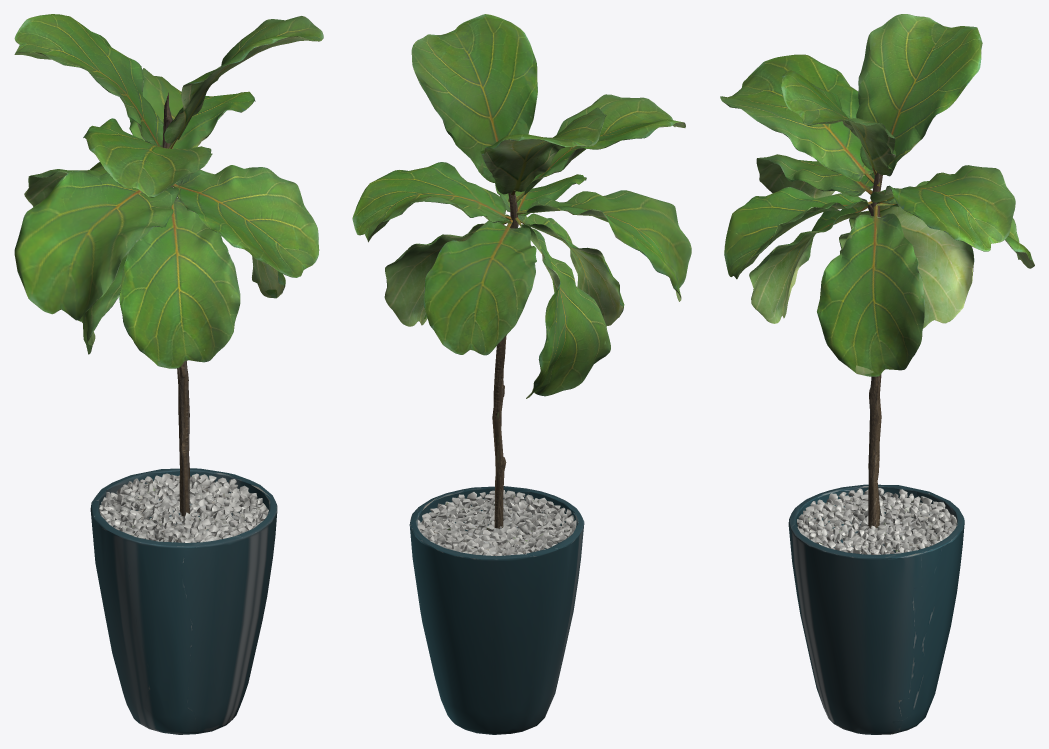
The model's file is raw_model.obj.
3 renders of one model, left to right at view 1: azimuth 30°, elevation 25°; view 2: azimuth 150°, elevation 25°; view 3: azimuth 270°, elevation 25°, orthographic. The views are drawn at different scales.
Visible parts, largest first — view 1: solid_005, solid_001, solid_002, solid_006, solid_004, solid_003; view 2: solid_005, solid_001, solid_006, solid_002, solid_004, solid_003; view 3: solid_005, solid_001, solid_006, solid_002, solid_004, solid_003.
Part boxes in pixels (x1,y1,x2,y2): solid_005: (14, 14, 323, 368); solid_001: (90, 468, 277, 734); solid_002: (99, 473, 268, 542); solid_006: (14, 16, 322, 361); solid_004: (162, 92, 189, 516); solid_003: (100, 481, 267, 542); solid_005: (352, 14, 691, 398); solid_001: (409, 486, 584, 734); solid_006: (362, 35, 690, 398); solid_002: (417, 490, 576, 556); solid_004: (492, 192, 519, 528); solid_003: (421, 499, 572, 555); solid_005: (720, 14, 1034, 376); solid_001: (788, 484, 964, 734); solid_006: (723, 39, 1034, 375); solid_002: (797, 488, 956, 554); solid_004: (867, 172, 882, 542); solid_003: (797, 496, 952, 554).
Bounding box in the file's own units: 0.4673 × 1.1 × 0.477.
1 material, 1 textured.
